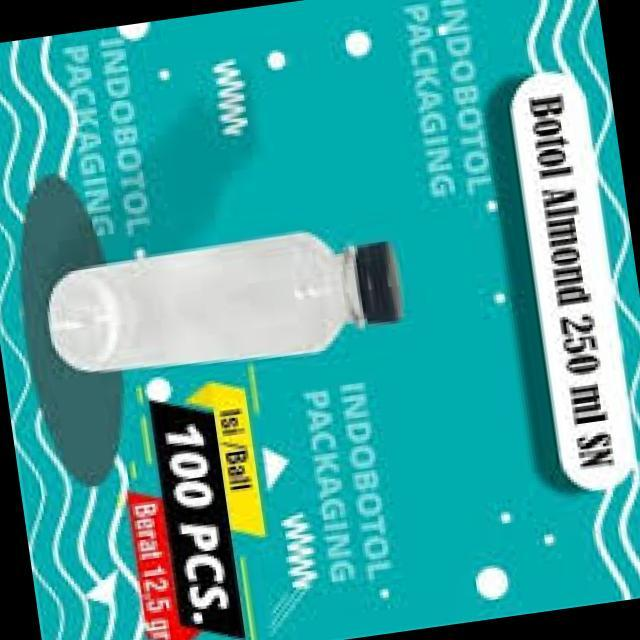good: (32, 214, 412, 400)
